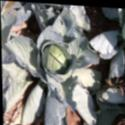cabbage: (38, 33, 68, 72)
